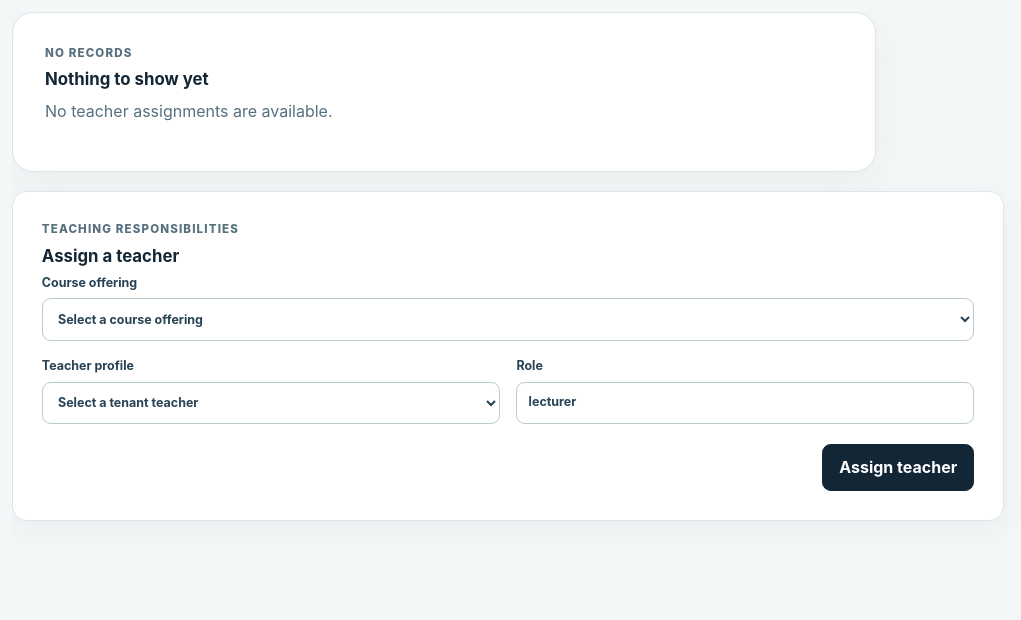
Test: TeacherAssignmentAdministration › assigns a tenant teacher to a labelled course offering
The image size is (1021, 620).
Select "CS101 · Programming I · Autumn 2026 · Section A" in the dropdown labelled "Course offering" at (508, 319), box [42,298,974,341]
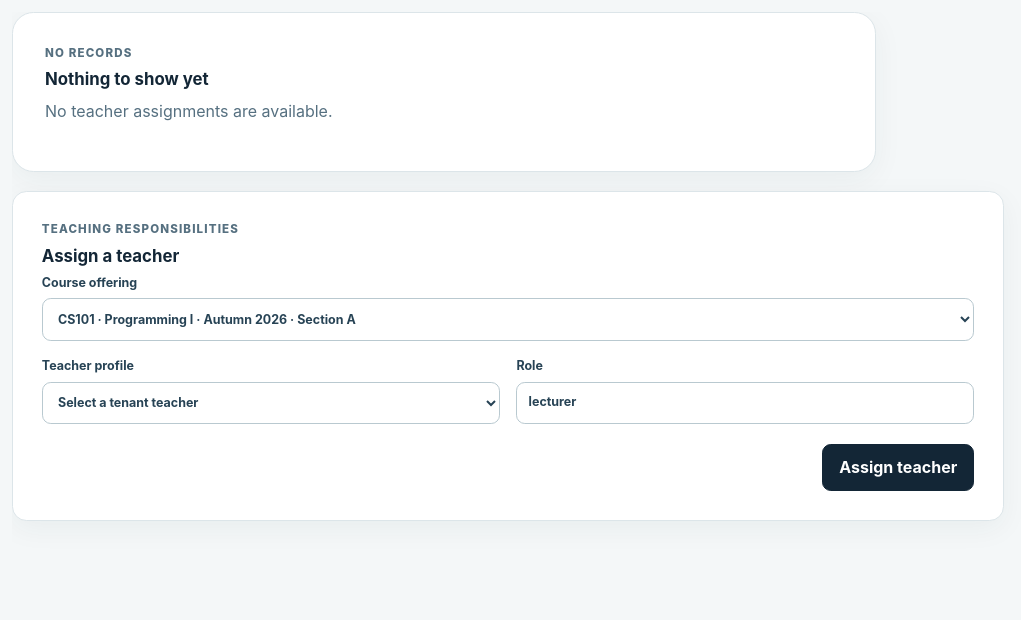
Select "Dr. Aitmatova · teacher-" in the dropdown labelled "Teacher profile" at (271, 403), box [42,382,500,424]
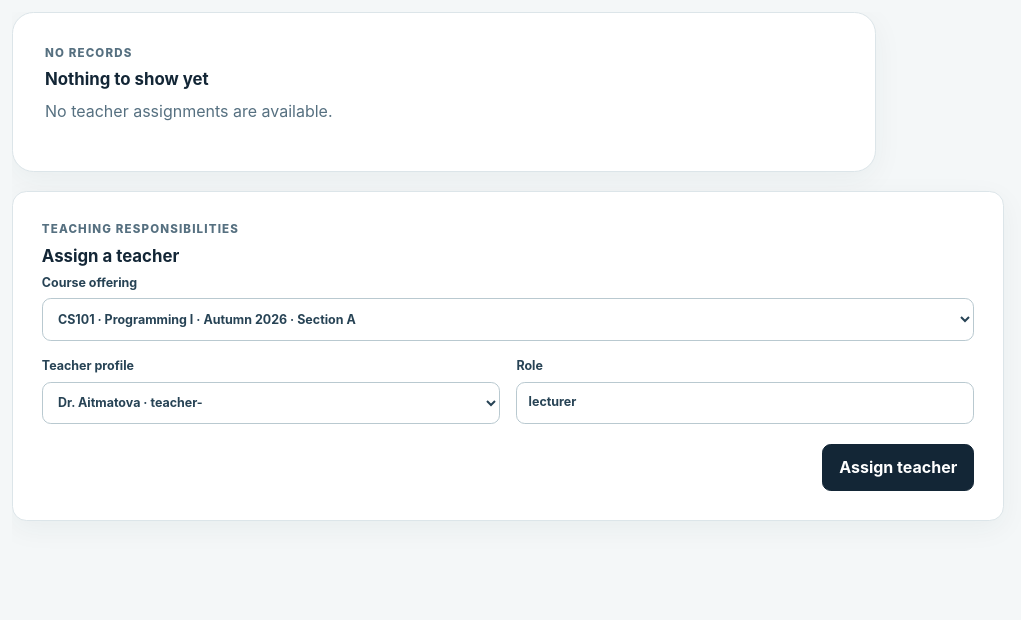
Click the button "Assign teacher".
click(898, 467)  # box [822,444,974,491]
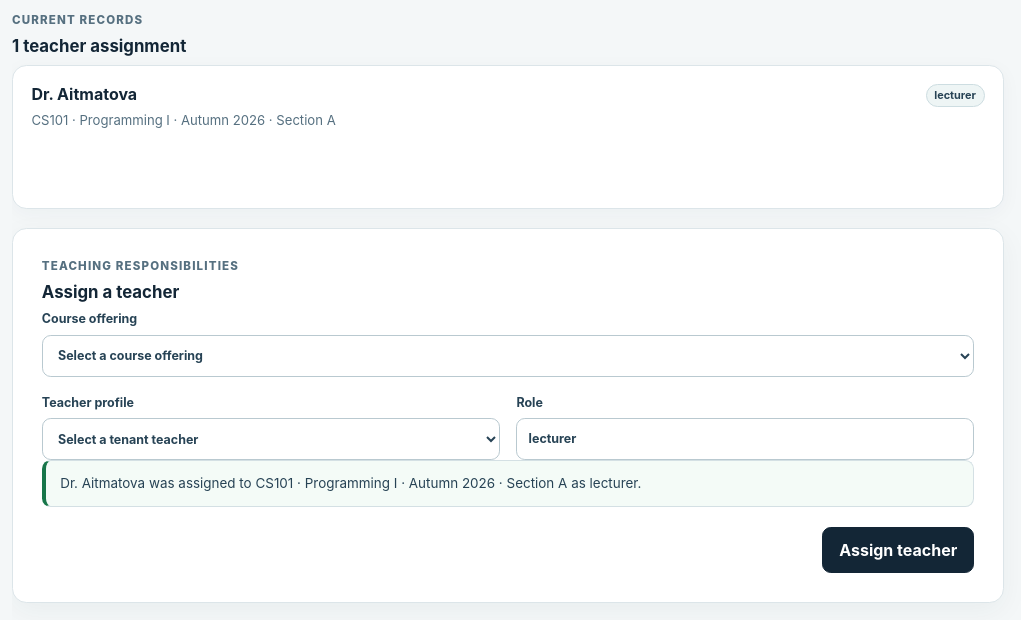
Now the text "Dr. Aitmatova was assigned to CS101 · Programming I · Autumn 2026 · Section A as lecturer." is shown, box [60,475,641,491]
Now the heading "1 teacher assignment" is shown, box [12,36,186,58]
